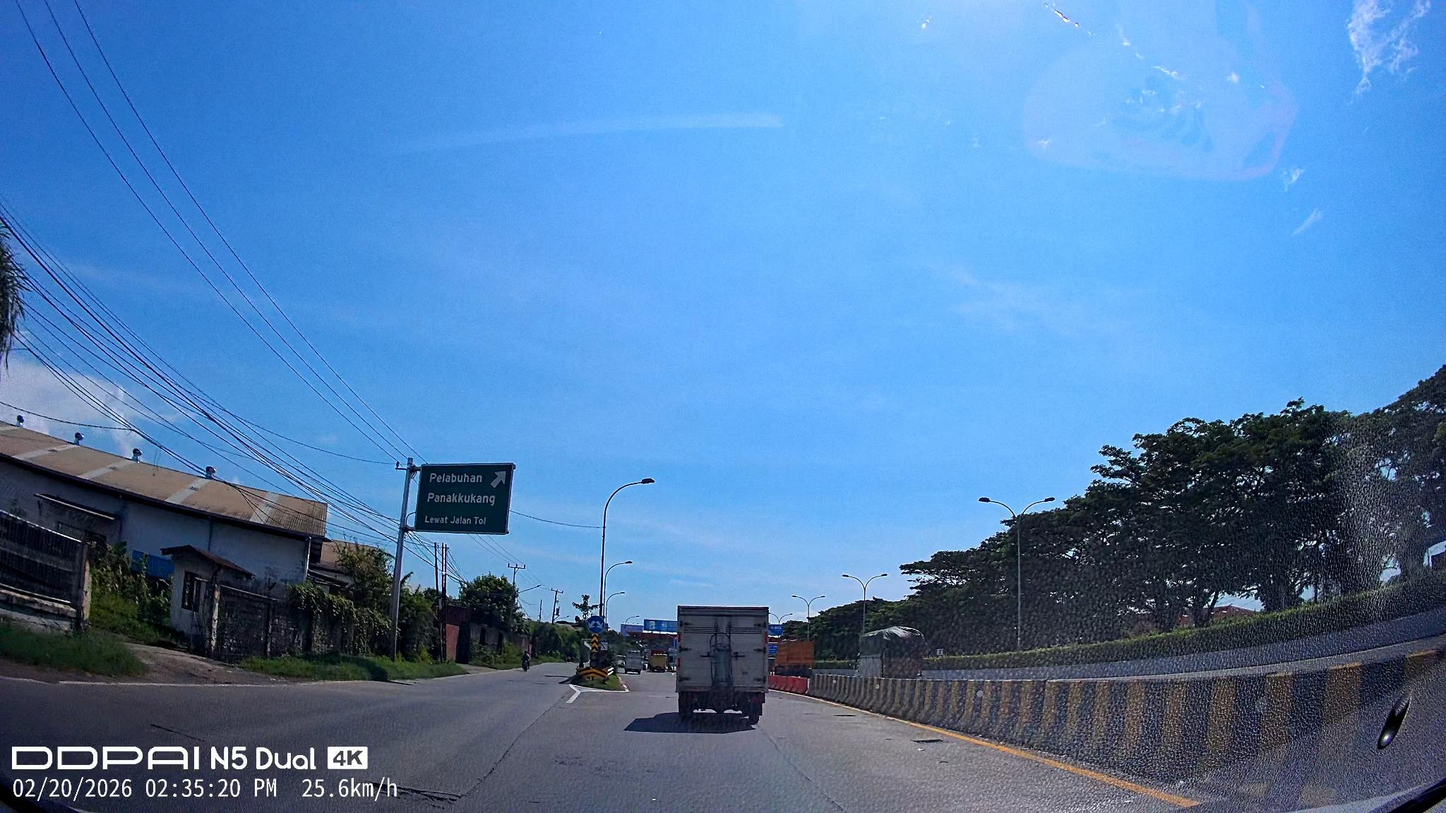rambu_teks: (414, 463, 515, 536)
